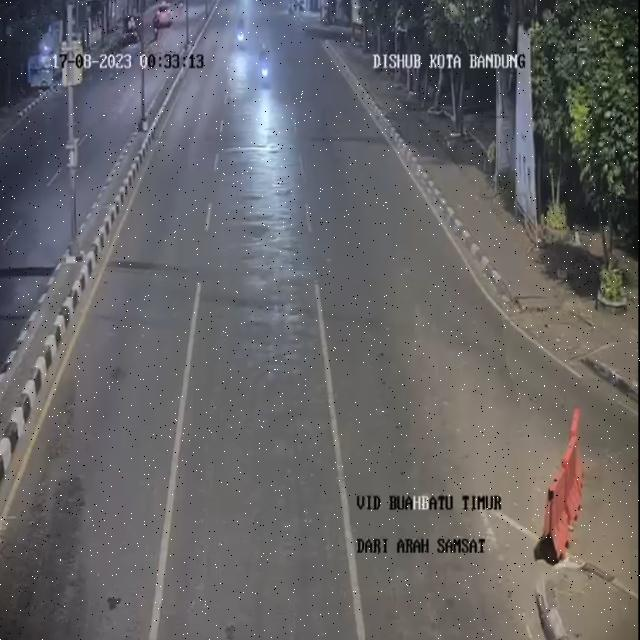motorcycle: (256, 41, 280, 98)
